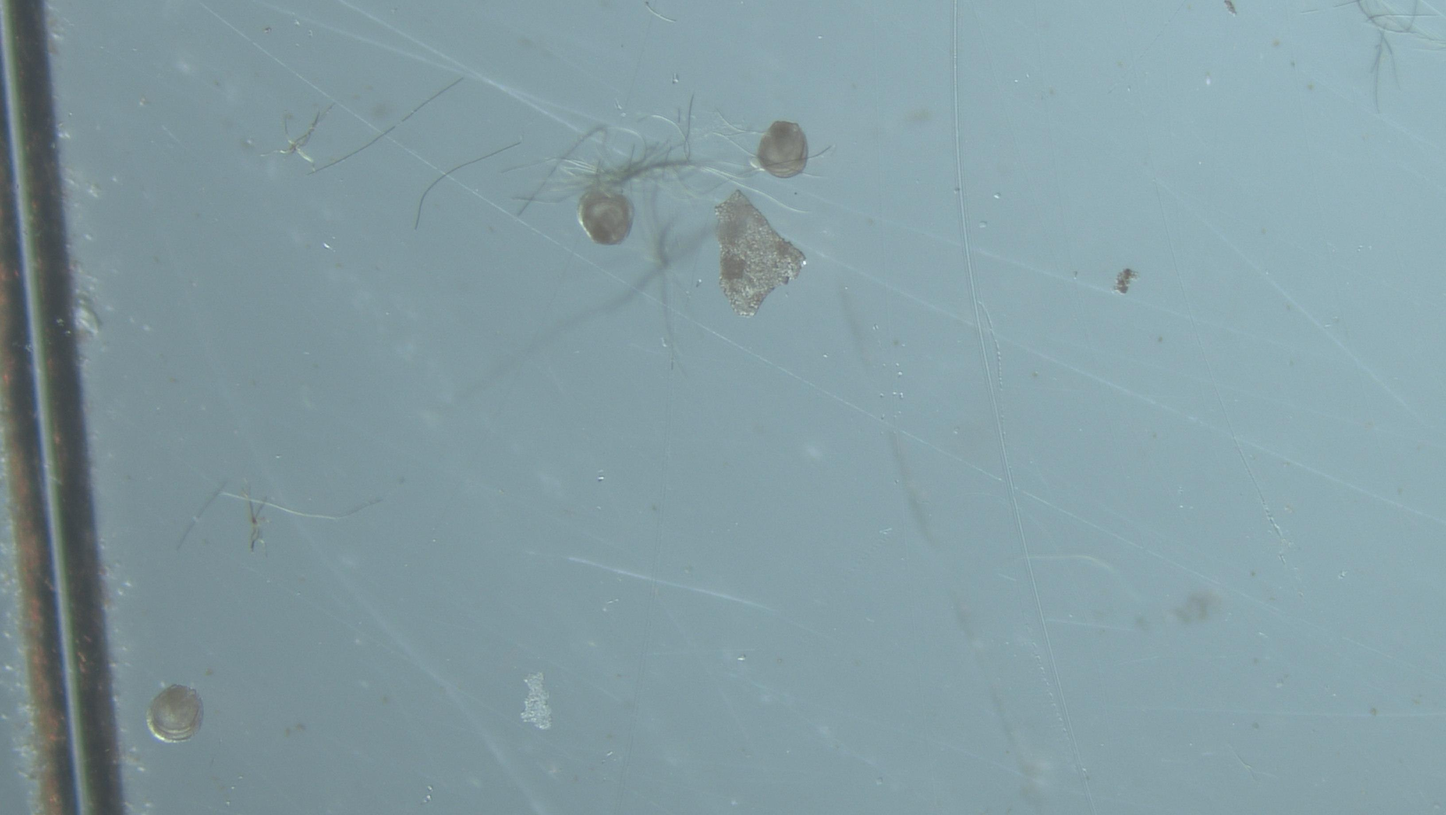live: (753, 120, 809, 178), (147, 685, 203, 742), (579, 188, 633, 245)
